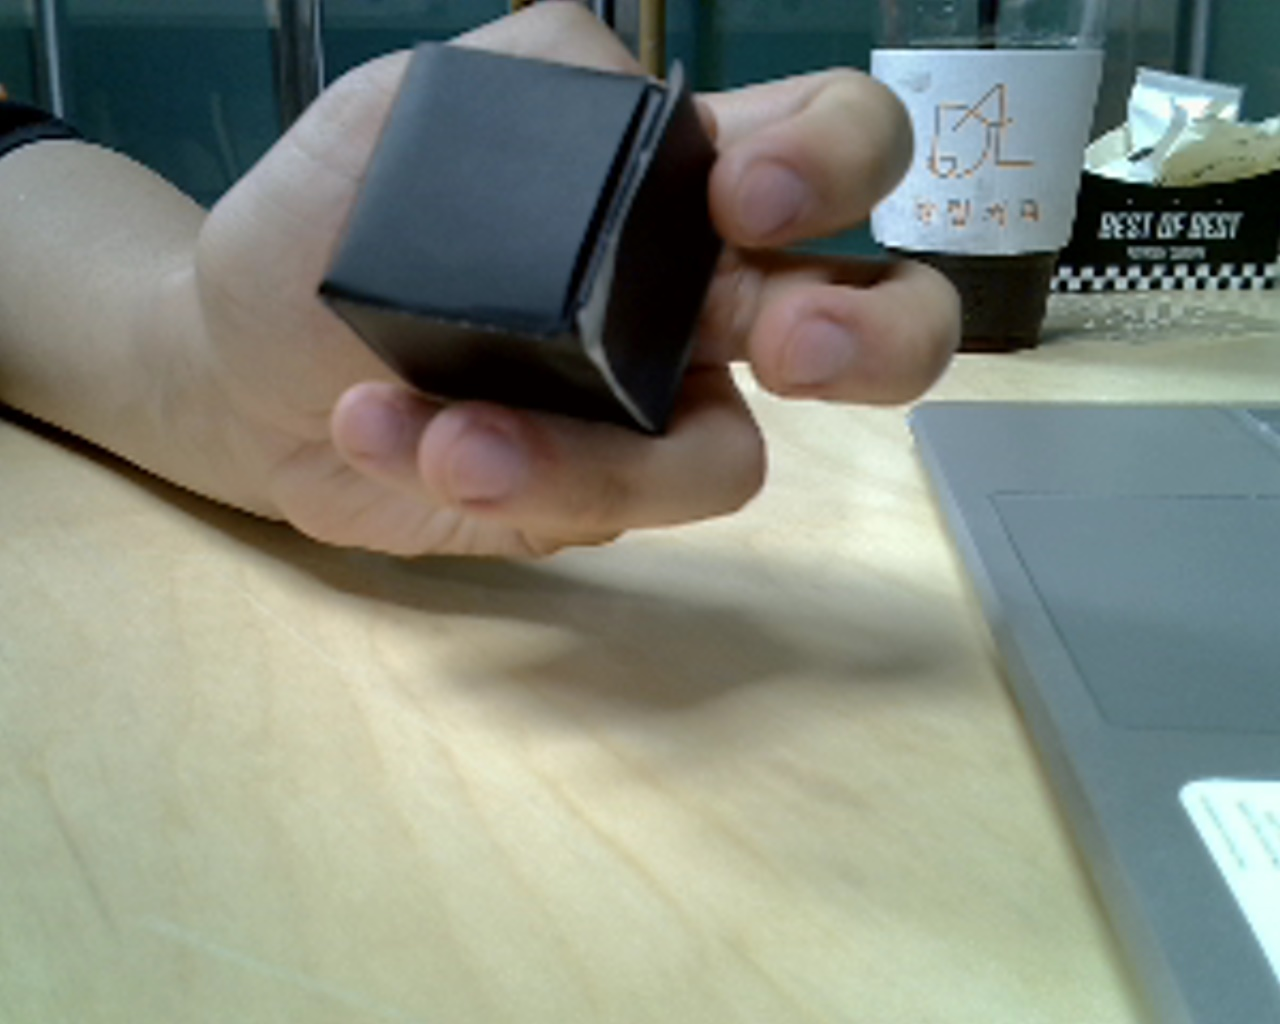blackbox: (322, 22, 769, 488)
